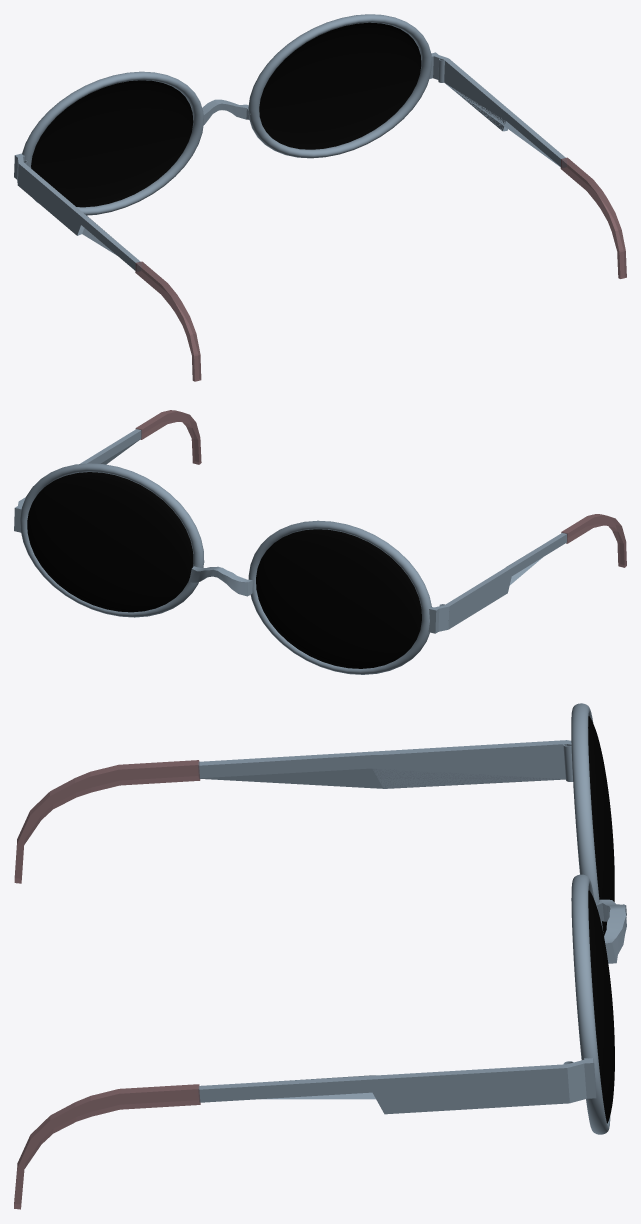
File: Eye_Glass_fix.fbx
The picture shows the model from 3 angles, top to bottom: view 1: azimuth 30°, elevation 25°; view 2: azimuth 150°, elevation 25°; view 3: azimuth 270°, elevation 25°; orthographic projection. The views are drawn at different scales.
Parts seen in each view (by area): view 1: pSphere1, pTorus1, pCube4, pCube5, pCube6; view 2: pSphere1, pTorus1, pCube4, pCube5, pCube6; view 3: pCube4, pCube5, pTorus1, pSphere1, pCube6.
Boxes of the visible parts, box(x1,y1,x2,y2) form: pSphere1: box(31, 22, 421, 207); pTorus1: box(22, 14, 431, 215); pCube4: box(14, 52, 566, 271); pCube5: box(135, 157, 626, 381); pCube6: box(202, 99, 250, 124); pSphere1: box(27, 472, 421, 668); pTorus1: box(20, 463, 431, 674); pCube4: box(14, 429, 567, 633); pCube5: box(135, 410, 626, 567); pCube6: box(189, 566, 253, 596); pCube4: box(198, 740, 596, 1114); pCube5: box(14, 760, 200, 1209); pTorus1: box(571, 703, 610, 1134); pSphere1: box(588, 716, 614, 1123); pCube6: box(596, 899, 626, 963).
Size of the model in its own units: 14.7 by 4.95 by 11.57.
